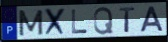A: (139, 5, 165, 33)
L: (70, 8, 88, 35)
M: (17, 9, 44, 37)
Q: (93, 6, 114, 35)
T: (118, 6, 137, 34)
X: (43, 7, 67, 38)
